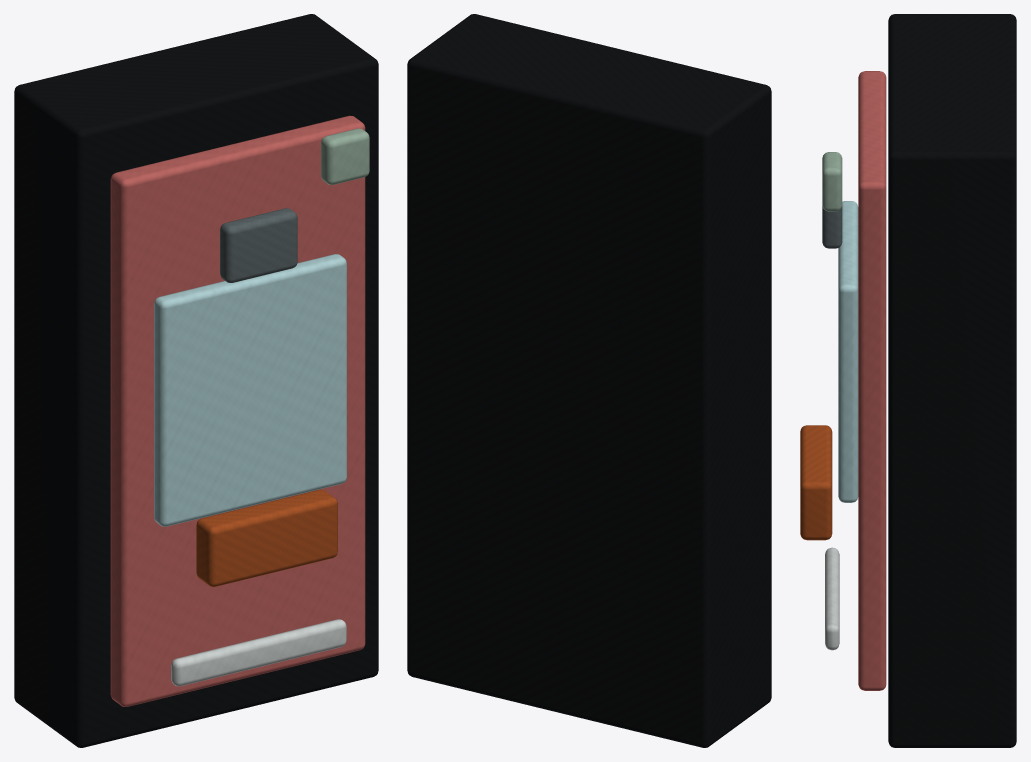
Rendered from WallFireAlarmPull.fbx.
3 views of the same model, side by side, from view 1: azimuth 30°, elevation 25°; view 2: azimuth 150°, elevation 25°; view 3: azimuth 270°, elevation 25° (orthographic). The views are drawn at different scales.
Visible parts, largest first — view 1: WallFireAlarmPull_Mesh; view 2: WallFireAlarmPull_Mesh; view 3: WallFireAlarmPull_Mesh.
Part boxes in pixels (bbox=[...]): WallFireAlarmPull_Mesh: bbox=[14, 14, 378, 747]; WallFireAlarmPull_Mesh: bbox=[407, 14, 771, 747]; WallFireAlarmPull_Mesh: bbox=[800, 14, 1016, 747].
Bounding box in the file's own units: 42 × 82 × 27.
